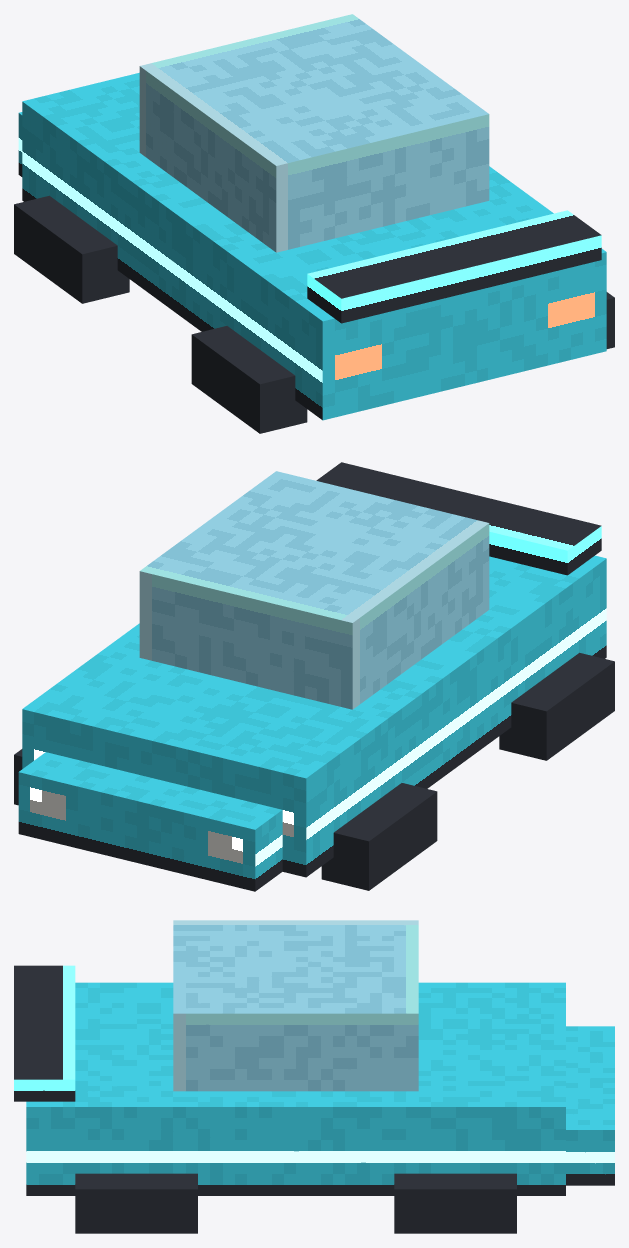
Rendered from flying_car_3.glb.
The picture shows the model from 3 angles, top to bottom: view 1: azimuth 30°, elevation 25°; view 2: azimuth 150°, elevation 25°; view 3: azimuth 270°, elevation 25°; orthographic projection. The views are drawn at different scales.
Visible parts, largest first — view 1: flying_car_3_hull, flying_car_3_canopy, flying_car_3_spoiler, flying_car_3_pod_lb, flying_car_3_pod_lf; view 2: flying_car_3_hull, flying_car_3_canopy, flying_car_3_nose, flying_car_3_spoiler, flying_car_3_pod_lf, flying_car_3_pod_lb; view 3: flying_car_3_hull, flying_car_3_canopy, flying_car_3_spoiler, flying_car_3_nose, flying_car_3_pod_rb, flying_car_3_pod_rf.
Boxes of the visible parts, x1,y1,x2,y2 form: flying_car_3_hull: (22, 72, 606, 420); flying_car_3_canopy: (139, 14, 489, 252); flying_car_3_spoiler: (307, 210, 601, 323); flying_car_3_pod_lb: (191, 326, 307, 433); flying_car_3_pod_lf: (14, 195, 129, 303); flying_car_3_hull: (22, 555, 606, 877); flying_car_3_canopy: (139, 471, 489, 709); flying_car_3_nose: (18, 752, 282, 891); flying_car_3_spoiler: (316, 462, 601, 575); flying_car_3_pod_lf: (321, 783, 437, 890); flying_car_3_pod_lb: (499, 652, 614, 760); flying_car_3_hull: (26, 982, 565, 1195); flying_car_3_canopy: (173, 920, 418, 1091); flying_car_3_spoiler: (14, 965, 75, 1101); flying_car_3_nose: (566, 1026, 614, 1185); flying_car_3_pod_rb: (75, 1173, 197, 1233); flying_car_3_pod_rf: (394, 1173, 516, 1233).
Bounding box in the file's own units: 1.88 × 1.06 × 3.06.
1 material, 1 textured.
